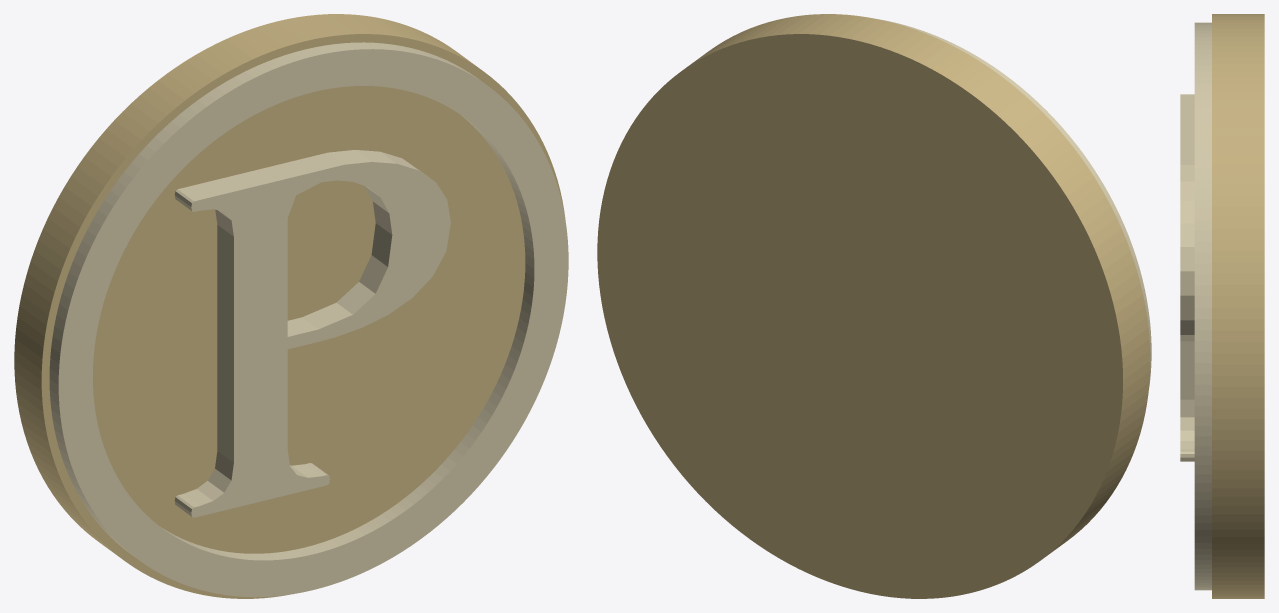
The model's file is medal-postboy.glb.
The picture shows the model from 3 angles, left to right: view 1: azimuth 30°, elevation 25°; view 2: azimuth 150°, elevation 25°; view 3: azimuth 270°, elevation 25°; orthographic projection. The views are drawn at different scales.
Parts seen in each view (by area): view 1: world; view 2: world; view 3: world.
Part boxes in pixels (x1,y1,x2,y2): world: [14, 14, 568, 598]; world: [597, 14, 1151, 598]; world: [1180, 14, 1264, 598].
Bounding box in the file's own units: 2 × 2 × 0.2892.
